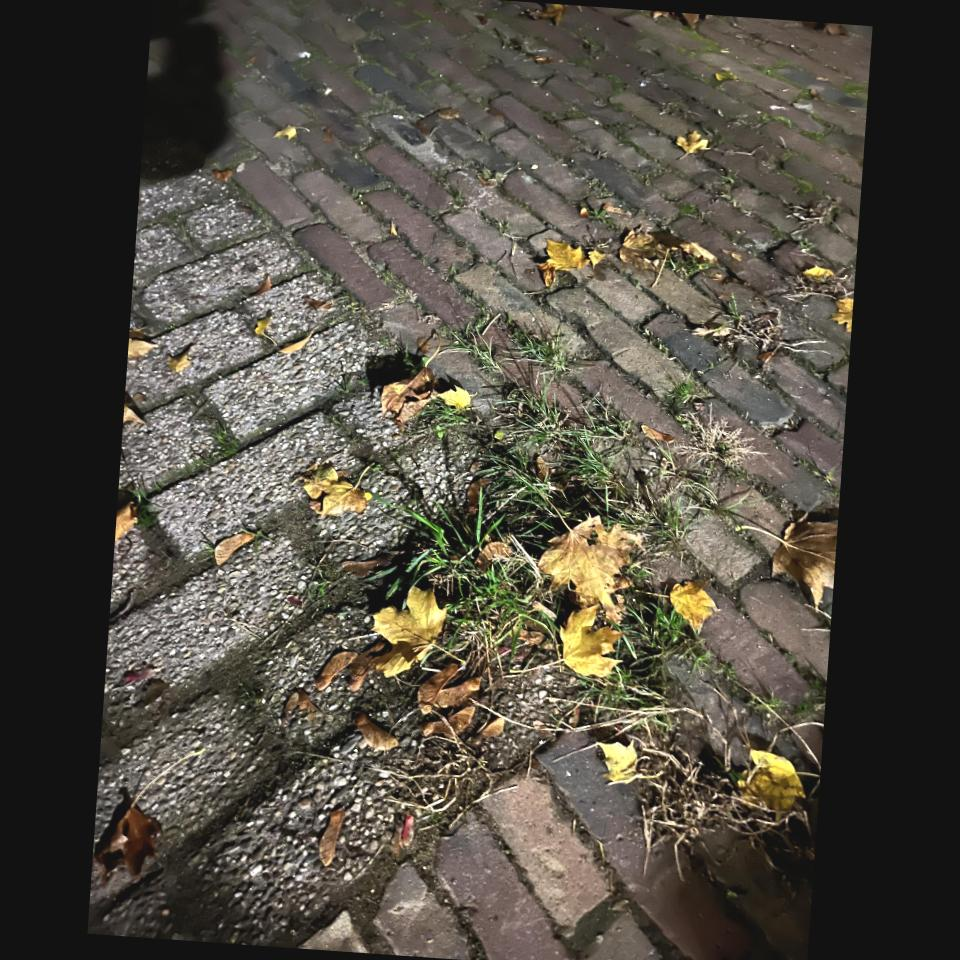weed: (407, 309, 757, 723), (747, 57, 841, 146), (662, 524, 740, 631), (603, 121, 703, 185)
